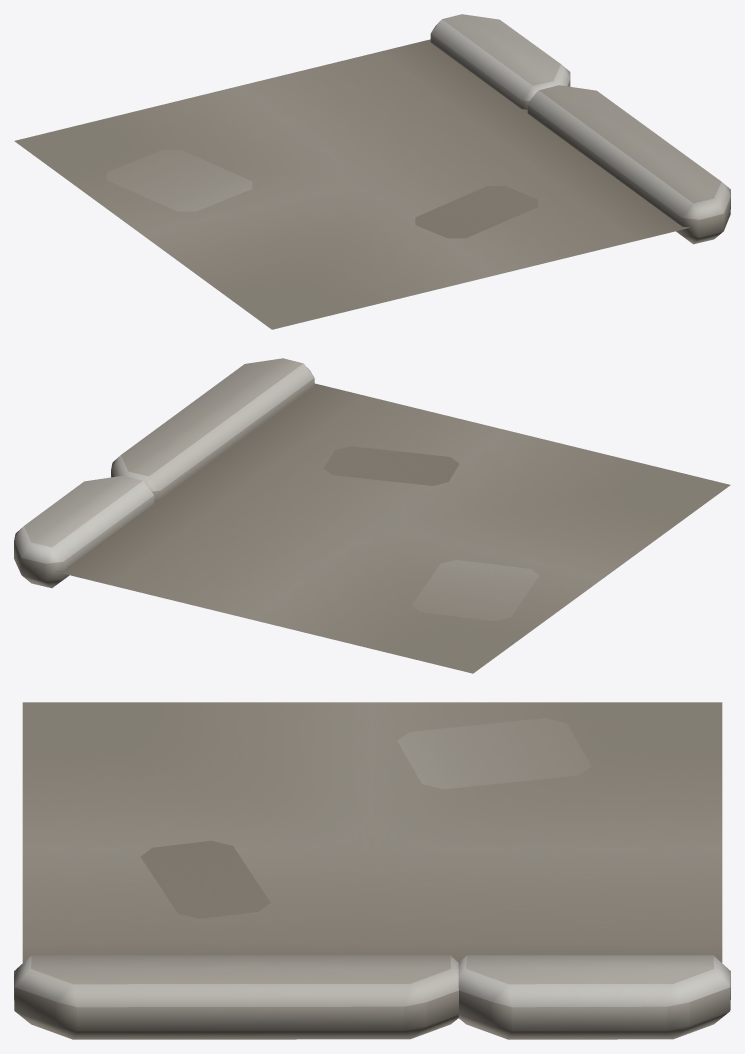
The model's file is path_park_t_section_01.fbx.
3 views of the same model, one above another, from view 1: azimuth 30°, elevation 25°; view 2: azimuth 150°, elevation 25°; view 3: azimuth 270°, elevation 25° (orthographic). The views are drawn at different scales.
Visible parts, largest first — view 1: path_park_t_section; view 2: path_park_t_section; view 3: path_park_t_section.
Part boxes in pixels (<box>): path_park_t_section: <box>14,14,730,329</box>; path_park_t_section: <box>14,358,730,673</box>; path_park_t_section: <box>14,702,730,1039</box>.
Size of the model in its own units: 429 by 35 by 410.
